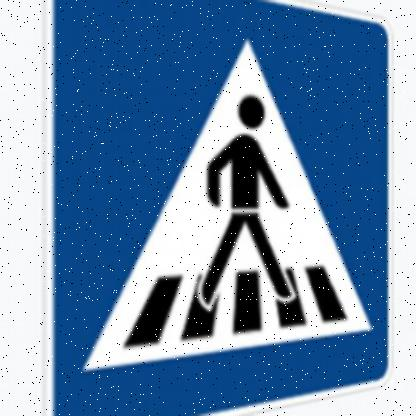Pedestrian Crossing: (41, 1, 396, 416)
